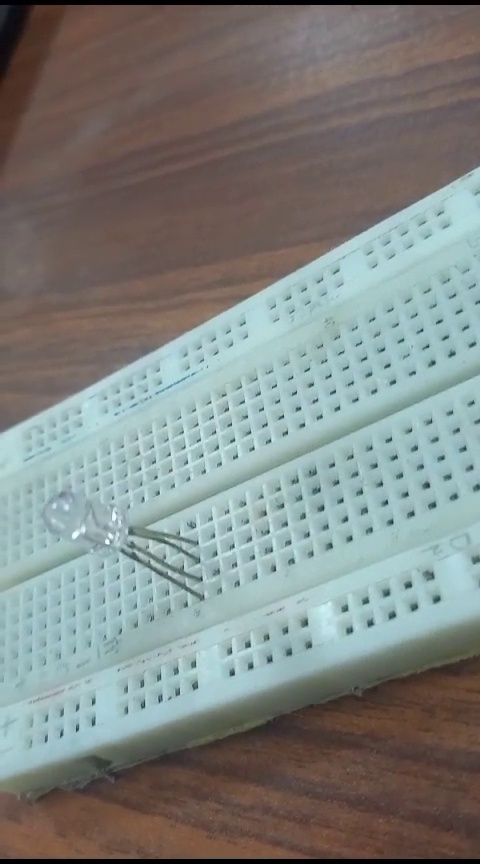LED: (30, 484, 208, 608)
